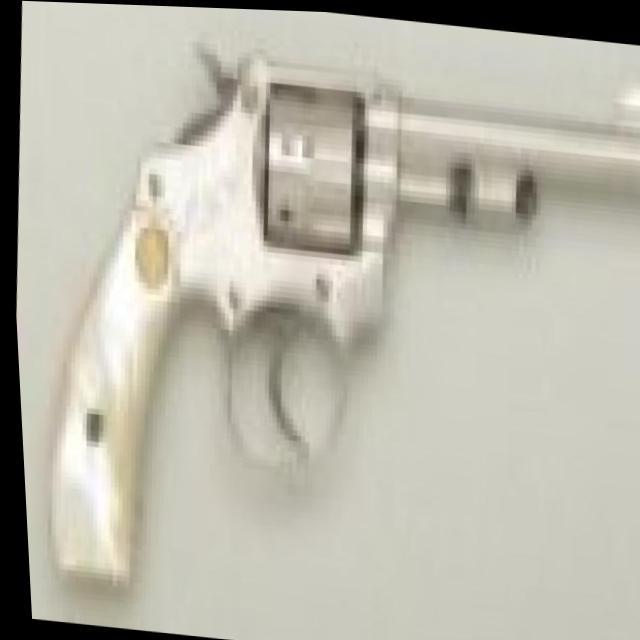weapon: (13, 19, 640, 638)
